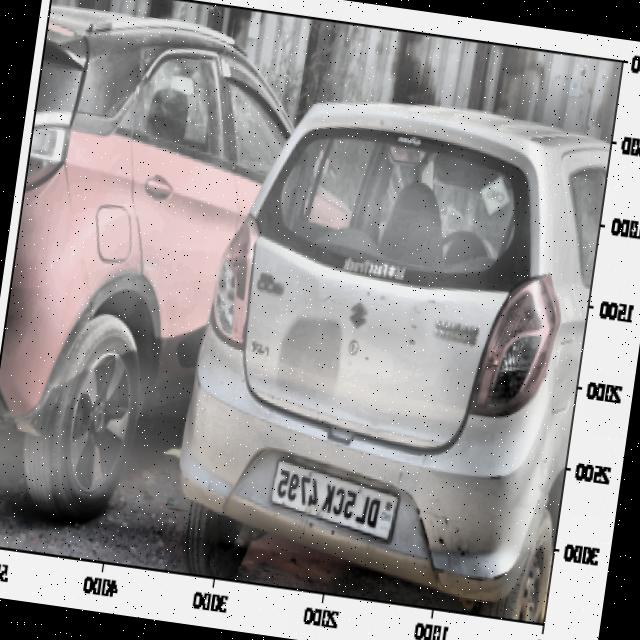license_plate: (268, 467, 391, 527)
